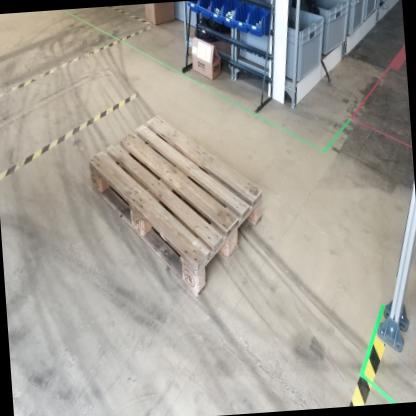BoxFace: (85, 110, 266, 307)
